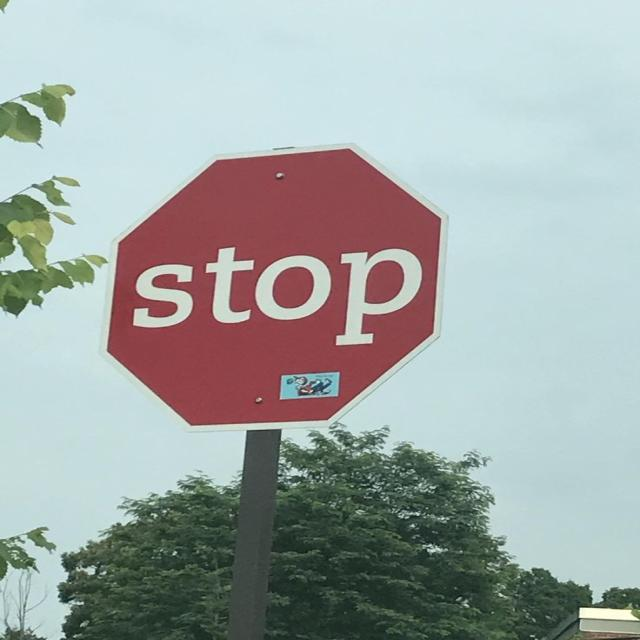stop: (99, 141, 449, 433)
